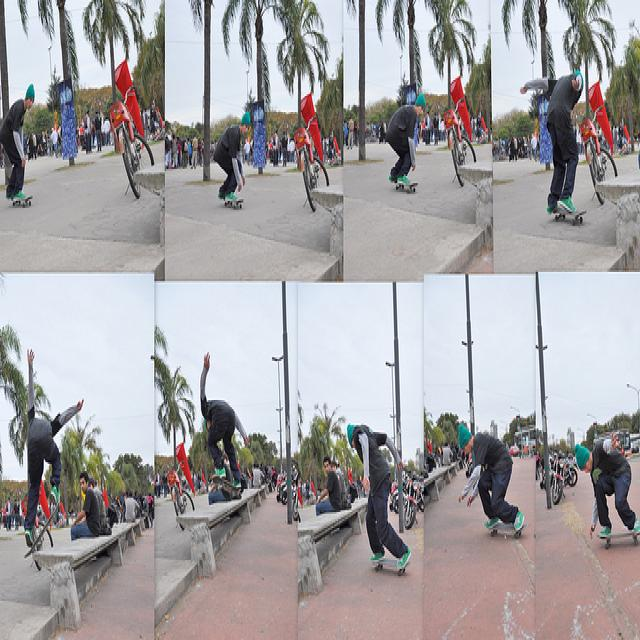motor: (403, 476, 424, 528), (549, 451, 566, 505)
